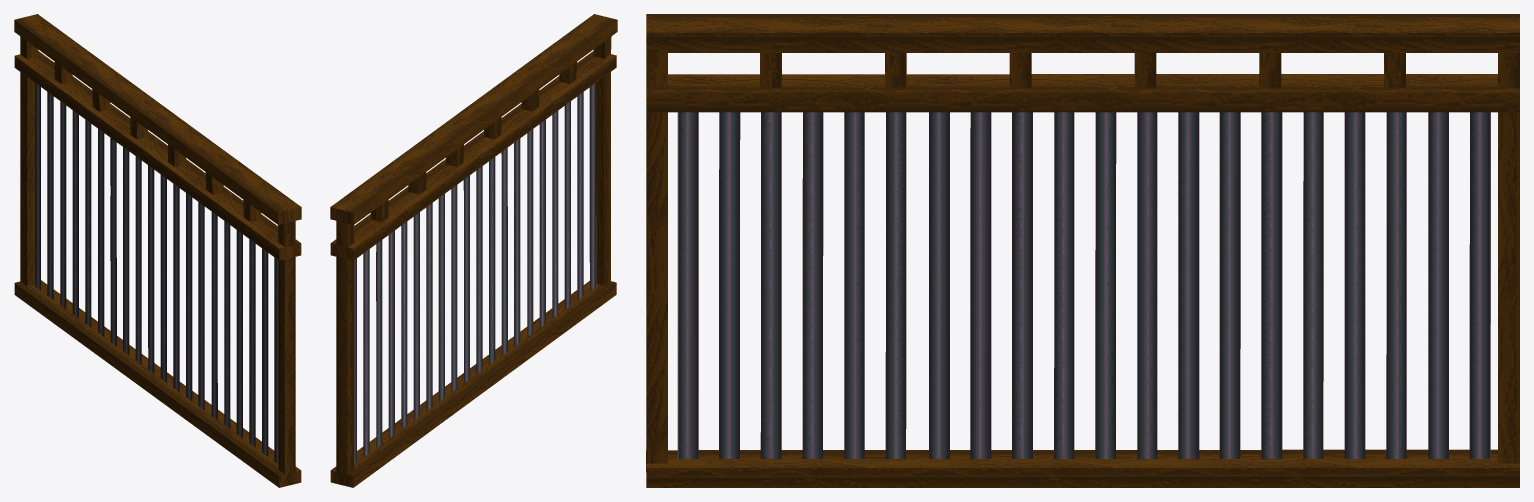
The model's file is Bossraum Gitter.fbx.
The picture shows the model from 3 angles, left to right: view 1: azimuth 30°, elevation 25°; view 2: azimuth 150°, elevation 25°; view 3: azimuth 270°, elevation 25°; orthographic projection. The views are drawn at different scales.
Visible parts, largest first — view 1: Bossraum Gitter; view 2: Bossraum Gitter; view 3: Bossraum Gitter.
Boxes of the visible parts, box(x1,y1,x2,y2) form: Bossraum Gitter: box(14, 14, 301, 487); Bossraum Gitter: box(330, 14, 617, 487); Bossraum Gitter: box(646, 14, 1519, 487).
Bounding box in the file's own units: 20.57 × 400 × 230.
1 material, 1 textured.
